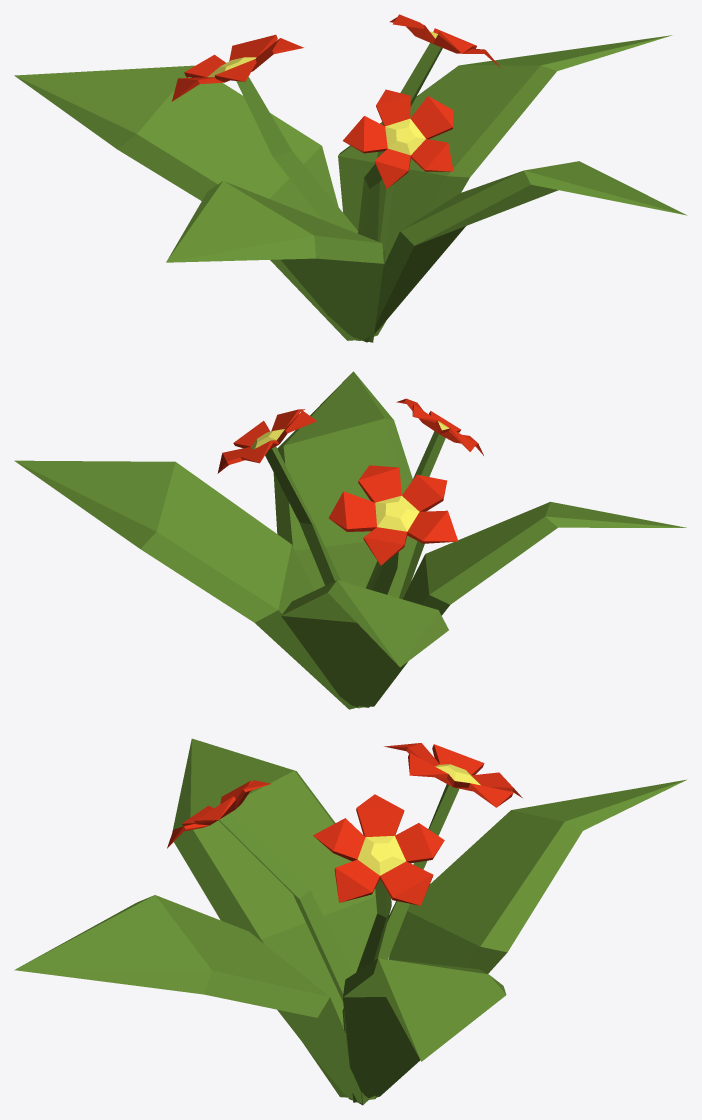
The model's file is flower1.obj.
3 renders of one model, top to bottom at view 1: azimuth 30°, elevation 25°; view 2: azimuth 150°, elevation 25°; view 3: azimuth 270°, elevation 25°, orthographic. The views are drawn at different scales.
Parts seen in each view (by area): view 1: Flower_bush_red_Plane.031; view 2: Flower_bush_red_Plane.031; view 3: Flower_bush_red_Plane.031.
Part boxes in pixels (bbox=[...]): Flower_bush_red_Plane.031: bbox=[14, 14, 687, 342]; Flower_bush_red_Plane.031: bbox=[14, 371, 686, 709]; Flower_bush_red_Plane.031: bbox=[14, 738, 686, 1105].
Size of the model in its own units: 1.35 by 0.6264 by 1.19.
